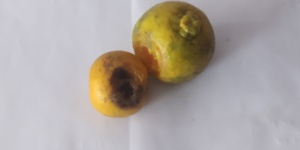BAD: (133, 12, 209, 86), (88, 48, 150, 116)
